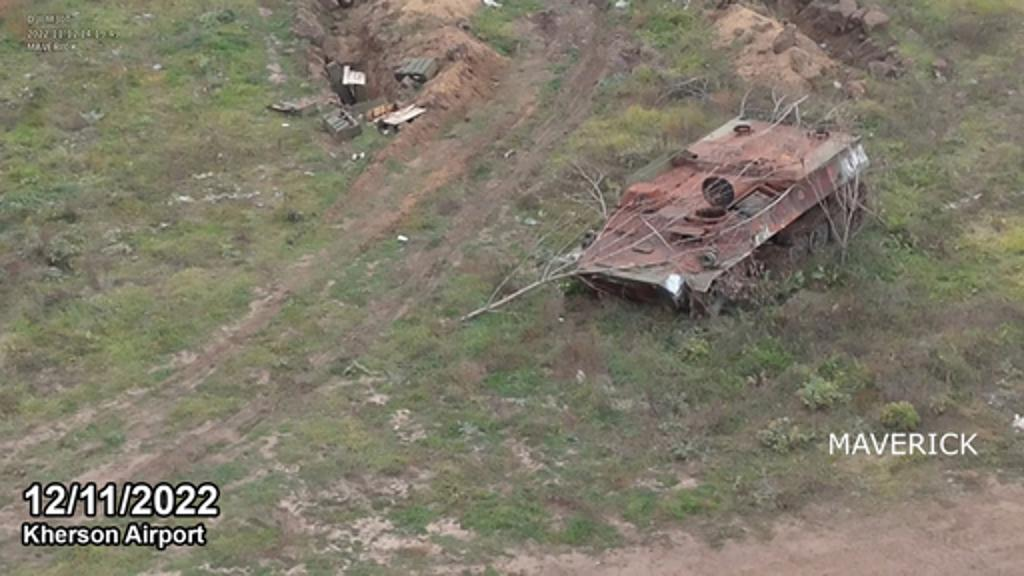APC-IFV: (560, 102, 876, 318)
